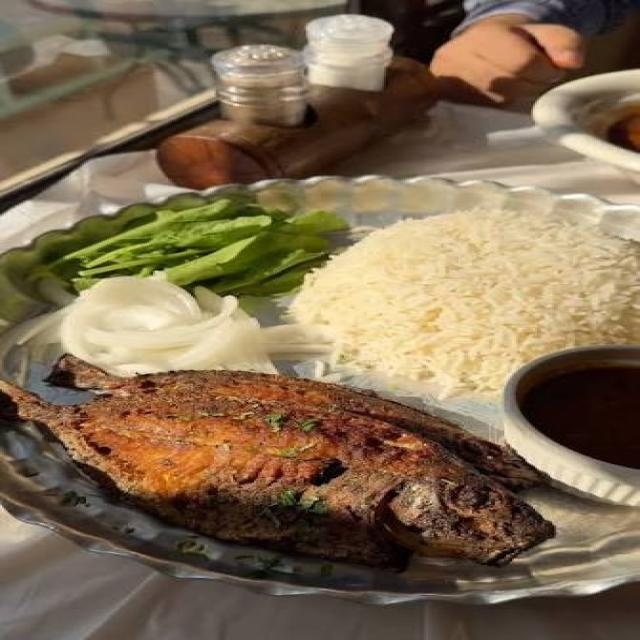Fried Fish: (57, 299, 622, 598)
